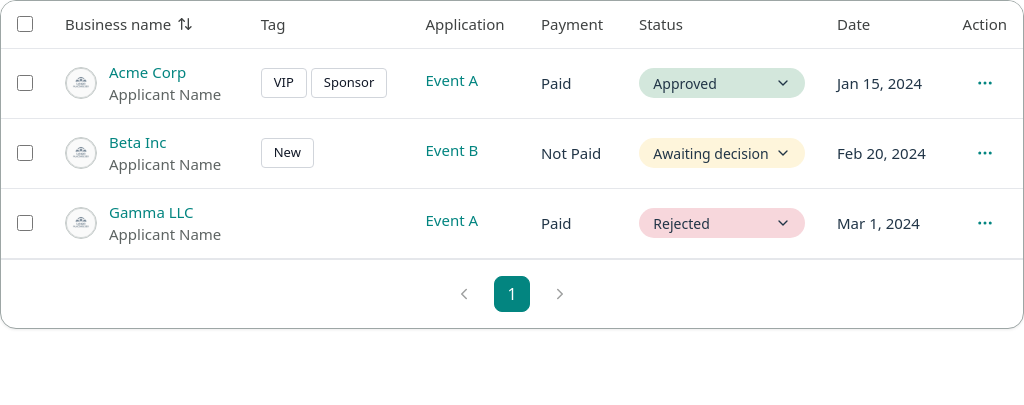
it: Table › select all checkbox selects all rows on page
The image size is (1024, 405).
Click the checkbox named "select all rows on this page": [25, 24] box [17,16,33,32]
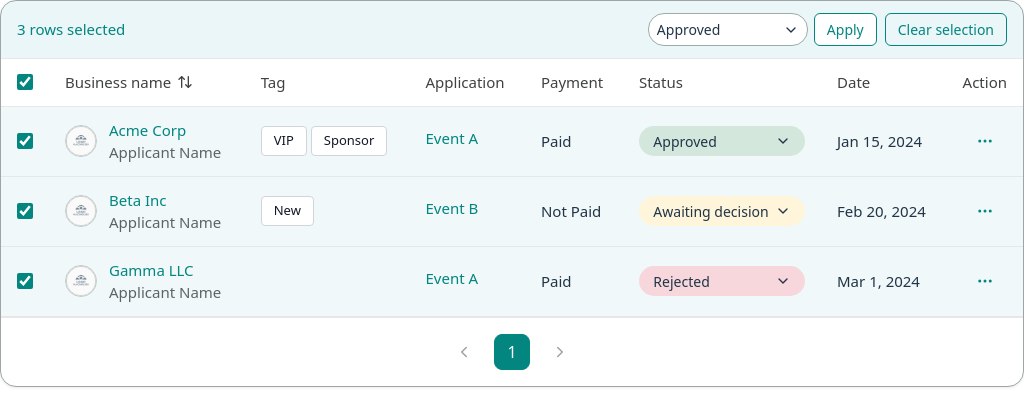
Expected: the checkbox named "select all rows on this page" is checked, [17,74,33,90]
Expected: the checkbox named "select acme corp" is checked, [17,133,33,149]
Expected: the checkbox named "select beta inc" is checked, [17,203,33,219]
